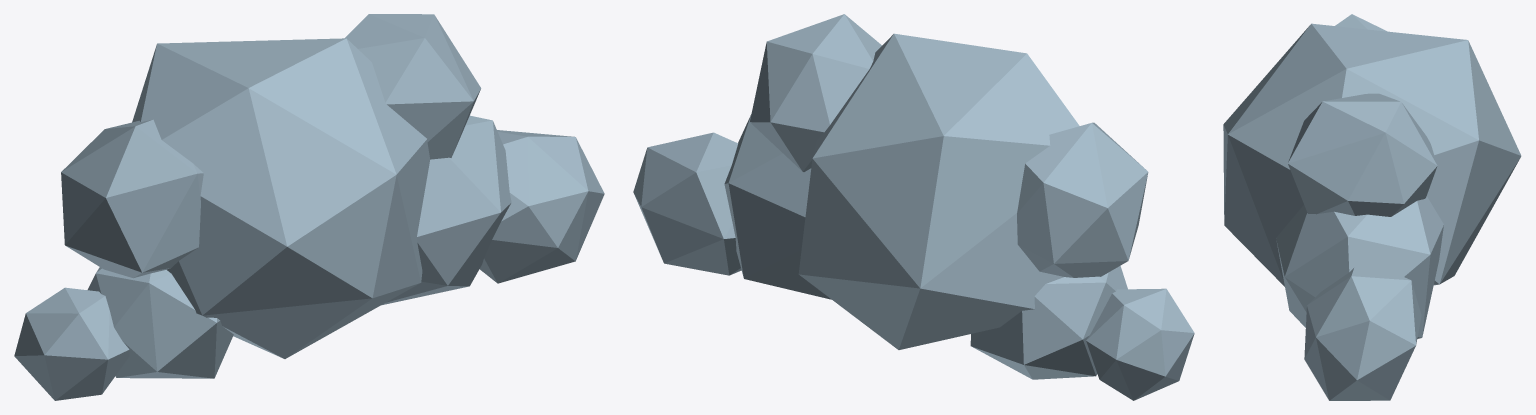
File: small_cloud_8.fbx
The picture shows the model from 3 angles, left to right: view 1: azimuth 30°, elevation 25°; view 2: azimuth 150°, elevation 25°; view 3: azimuth 270°, elevation 25°; orthographic projection. The views are drawn at different scales.
Visible parts, largest first — view 1: cloud_8; view 2: cloud_8; view 3: cloud_8.
Boxes of the visible parts, bbox=[...] form: cloud_8: bbox=[14, 14, 604, 400]; cloud_8: bbox=[633, 14, 1194, 400]; cloud_8: bbox=[1223, 14, 1521, 400].
Bounding box in the file's own units: 461 × 236 × 236.
